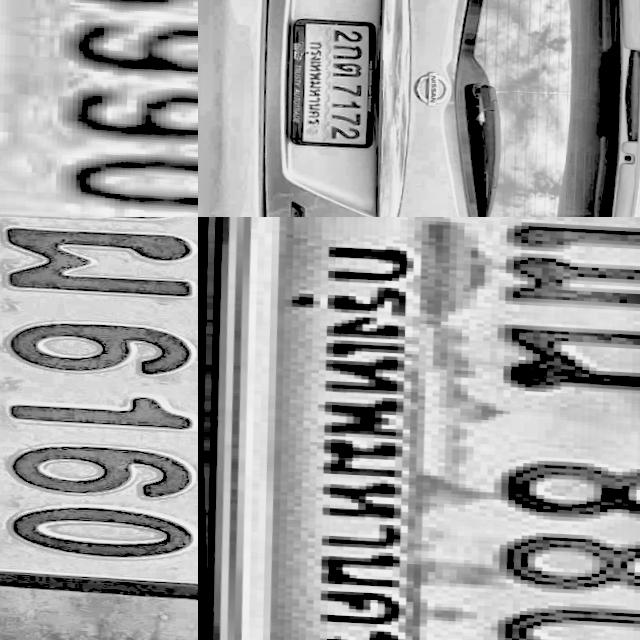license-plate: (199, 217, 640, 640), (0, 217, 198, 624), (0, 0, 198, 217), (280, 16, 380, 150)
